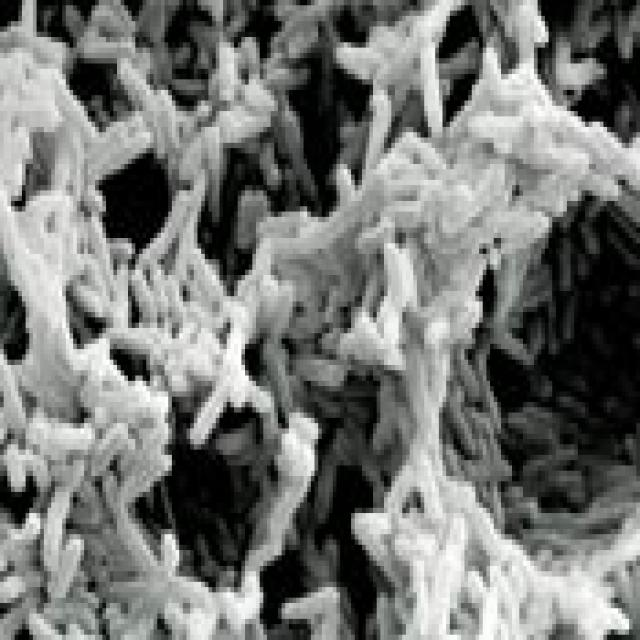Amoeba: (4, 0, 640, 634)
